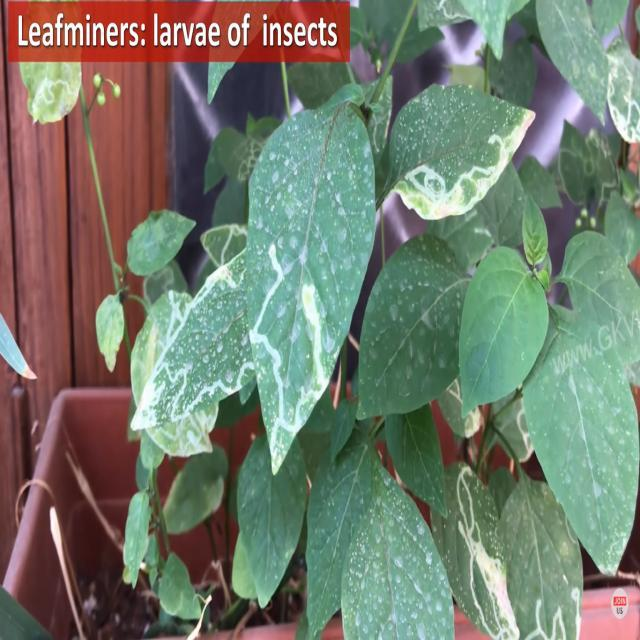Tomato healthy leaf: (458, 246, 548, 420)
Tomato target spot leaf: (245, 104, 376, 478), (128, 246, 254, 432), (391, 82, 538, 222), (430, 459, 523, 640), (498, 476, 583, 640), (558, 113, 622, 214), (20, 62, 83, 130), (220, 115, 282, 182), (605, 48, 640, 148), (440, 378, 482, 438), (199, 220, 248, 268), (513, 384, 535, 464), (414, 0, 473, 28)
